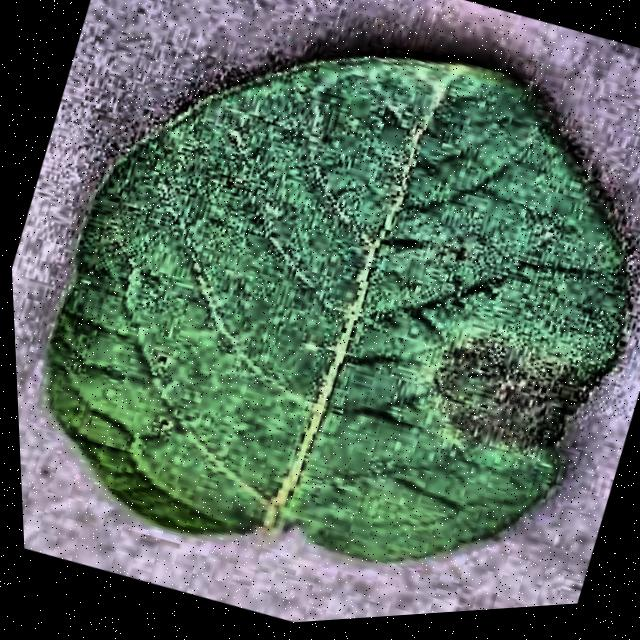Potato_leaf_late_blight: (25, 15, 639, 584)
